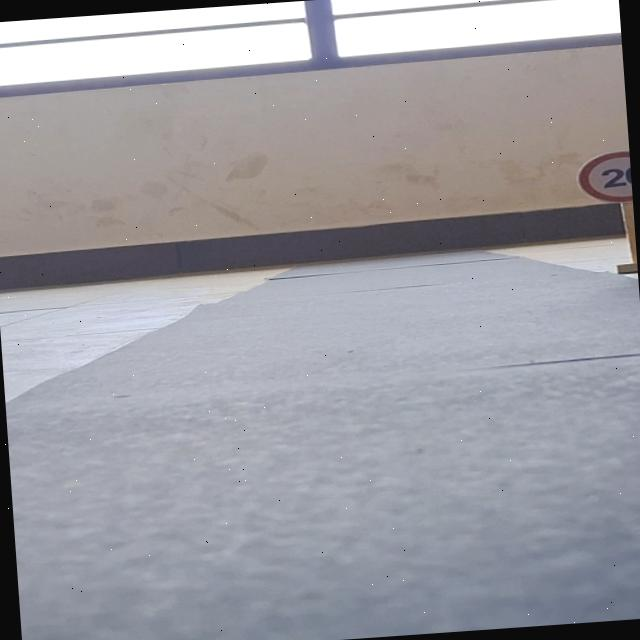Speed20: (573, 147, 633, 209)
